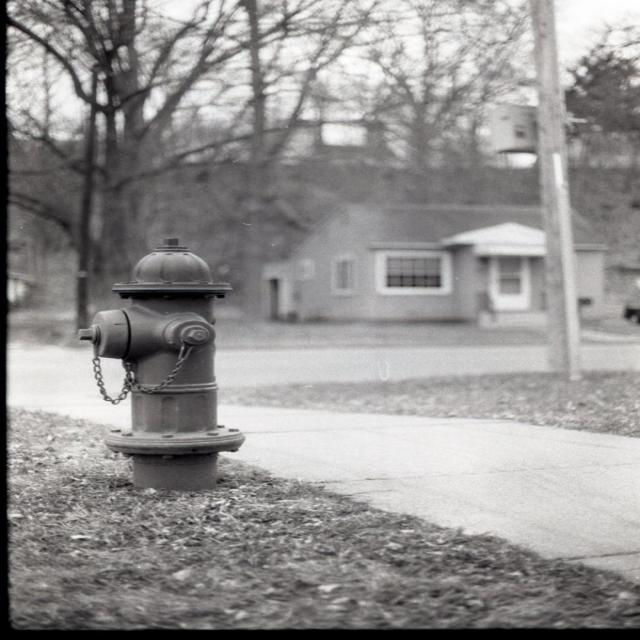fire_hydrant: (80, 238, 244, 494)
